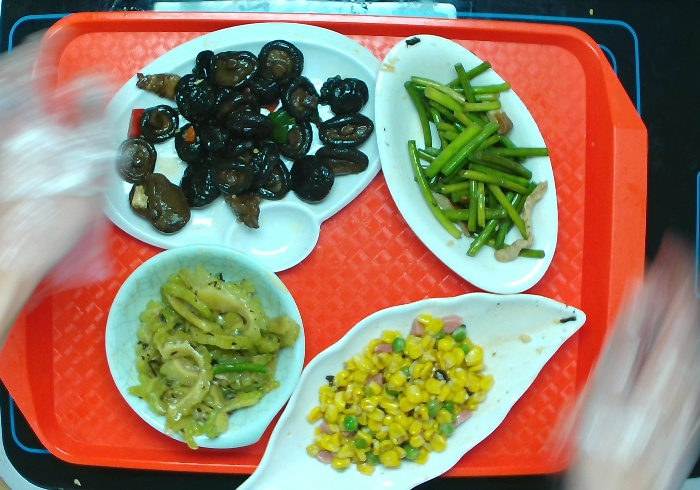RJxy-Bai_Se_Tuo_Yuan: (360, 24, 560, 305)
RJxy-Shu_Ye_Pan: (219, 281, 593, 490)
RJxy-Xiao_Jiao_Yuan_Wan: (97, 238, 316, 460)
RJxy-Zhan_Liao_Pan: (79, 15, 391, 276)
